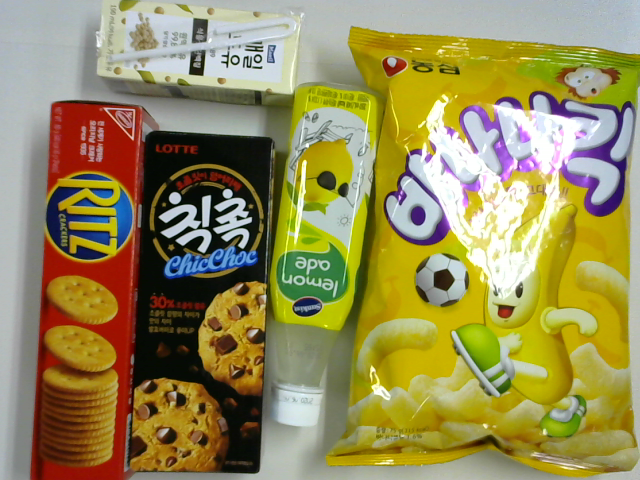99.89_Soymilk: (95, 1, 301, 106)
Banana_Kick: (326, 26, 639, 479)
Chicchok_Original_2400: (128, 129, 278, 475)
Ritz_Cracker: (28, 101, 163, 480)
Sunkist_Lemonaid_Pet: (270, 80, 382, 428)
